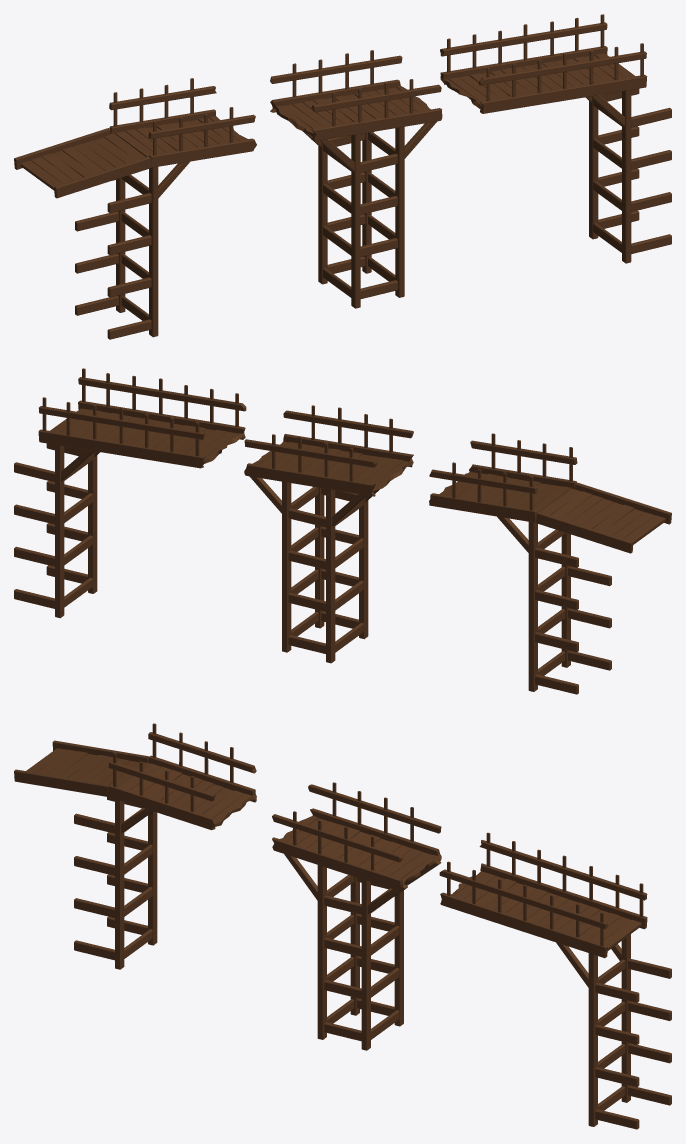
The model's file is env_puenteRotoA.fbx.
The picture shows the model from 3 angles, top to bottom: view 1: azimuth 30°, elevation 25°; view 2: azimuth 150°, elevation 25°; view 3: azimuth 330°, elevation 25°; orthographic projection.
Visible parts, largest first — view 1: Puente. roto; view 2: Puente. roto; view 3: Puente. roto.
Part boxes in pixels (x1=…): Puente. roto: x1=14, y1=14, x2=671, y2=339; Puente. roto: x1=14, y1=368, x2=671, y2=694; Puente. roto: x1=14, y1=723, x2=671, y2=1129.
Bounding box in the file's own units: 3426 × 1363 × 400.
